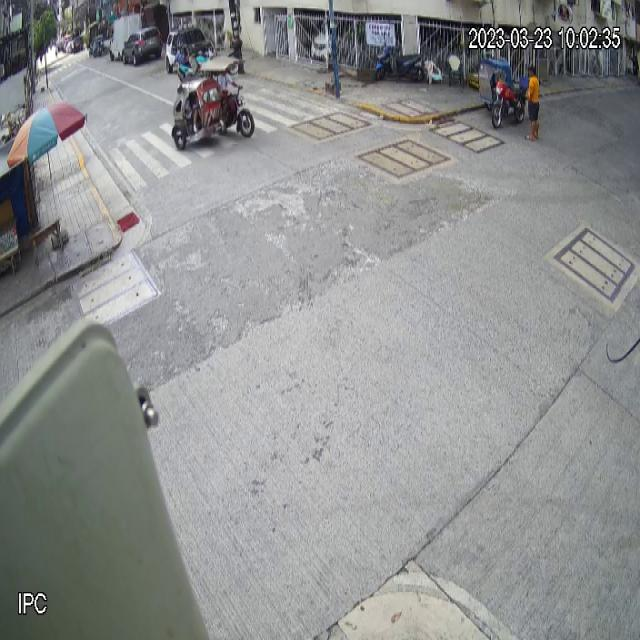Tricycle: (170, 56, 254, 152), (478, 56, 528, 130)
